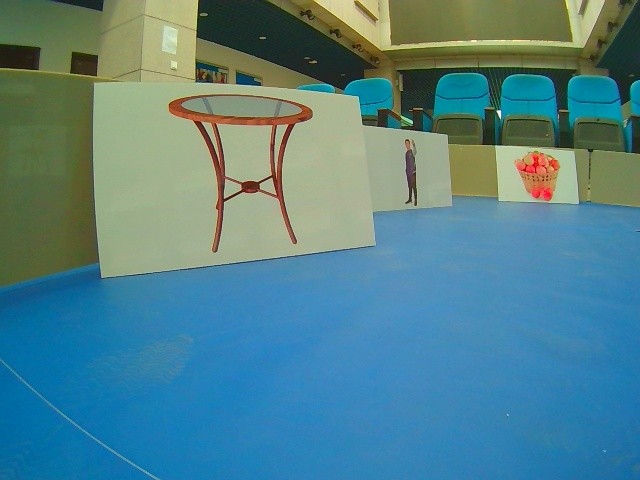food: (494, 145, 581, 208)
person: (360, 125, 455, 214)
table: (91, 82, 379, 279)
